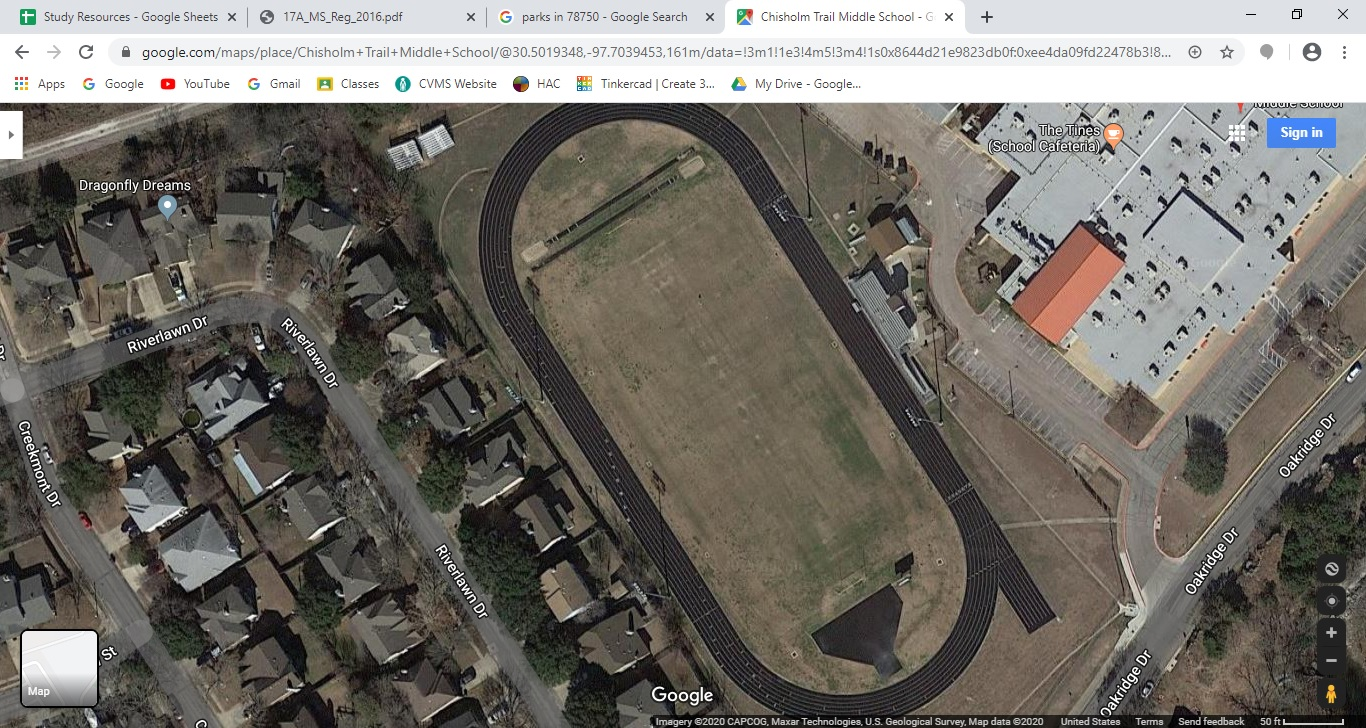football: (377, 115, 1054, 697)
